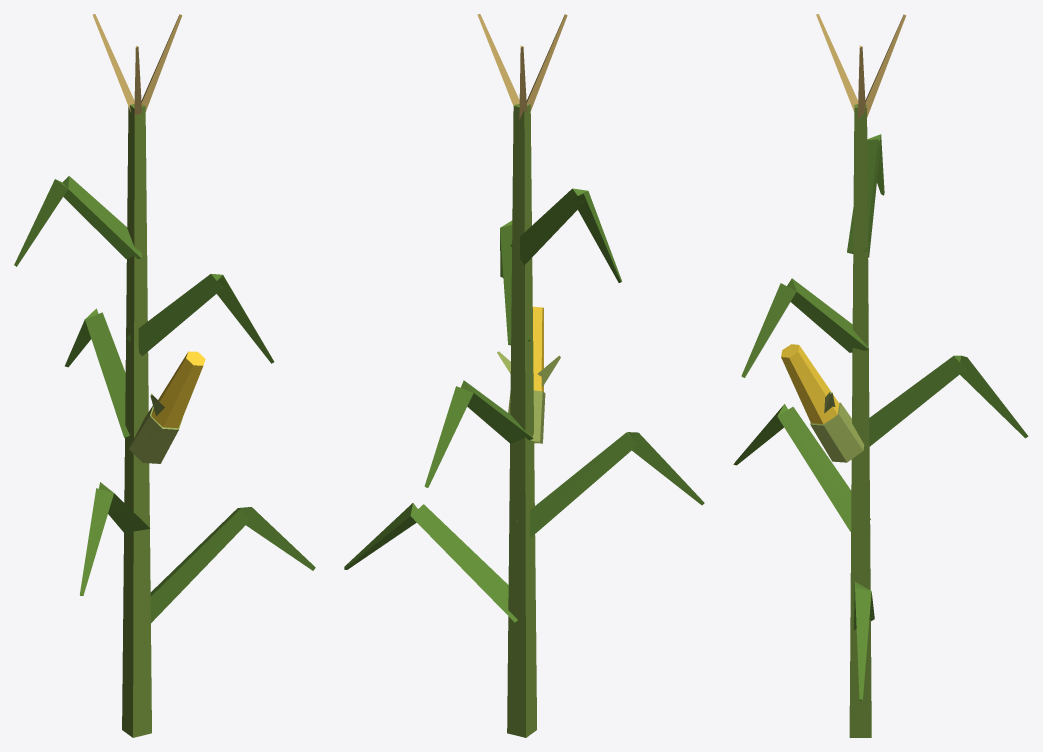
File: field_corn_1.obj
3 views of the same model, side by side, from view 1: azimuth 30°, elevation 25°; view 2: azimuth 150°, elevation 25°; view 3: azimuth 270°, elevation 25° (orthographic).
Visible parts, largest first — view 1: Leaf, Stalk, Cob, Cob.Husk, Tassel; view 2: Stalk, Leaf, Tassel, Cob.Husk, Cob; view 3: Leaf, Stalk, Cob, Cob.Husk, Tassel.
Boxes of the visible parts, bbox=[...] form: Leaf: bbox=[14, 176, 315, 622]; Stalk: bbox=[122, 104, 151, 737]; Cob: bbox=[151, 351, 205, 428]; Cob.Husk: bbox=[129, 393, 182, 463]; Tassel: bbox=[92, 14, 182, 116]; Stalk: bbox=[507, 104, 536, 737]; Leaf: bbox=[344, 188, 704, 622]; Tassel: bbox=[477, 14, 567, 119]; Cob.Husk: bbox=[497, 351, 560, 443]; Cob: bbox=[532, 306, 543, 391]; Leaf: bbox=[733, 134, 1028, 700]; Stalk: bbox=[849, 104, 871, 737]; Cob: bbox=[781, 344, 839, 424]; Cob.Husk: bbox=[810, 391, 864, 462]; Tassel: bbox=[816, 14, 906, 119].
Size of the model in its own units: 1.1 by 2.48 by 0.937.
